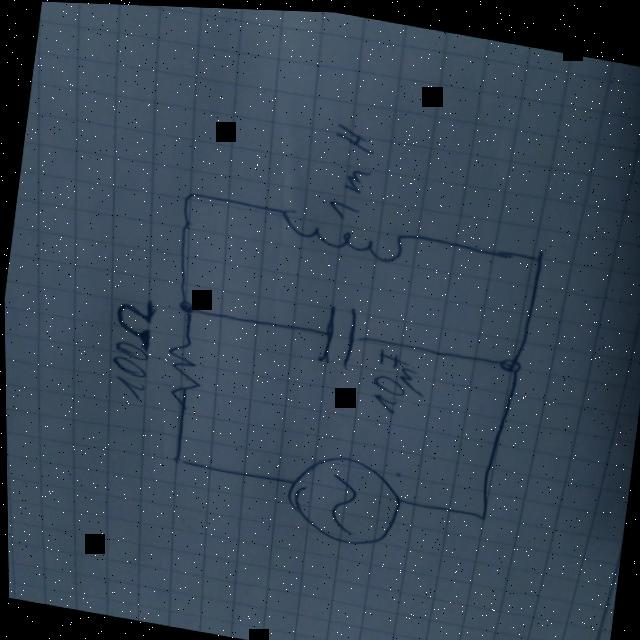capacitor: (313, 295, 363, 369)
inductor: (275, 202, 407, 263)
junction: (493, 345, 527, 374), (523, 239, 552, 264), (175, 294, 203, 318), (178, 183, 206, 206), (468, 502, 496, 524), (164, 448, 189, 467)
resistor: (157, 333, 208, 414)
source: (276, 442, 406, 552)
text: (101, 292, 160, 403), (320, 117, 378, 220), (366, 343, 428, 419)
